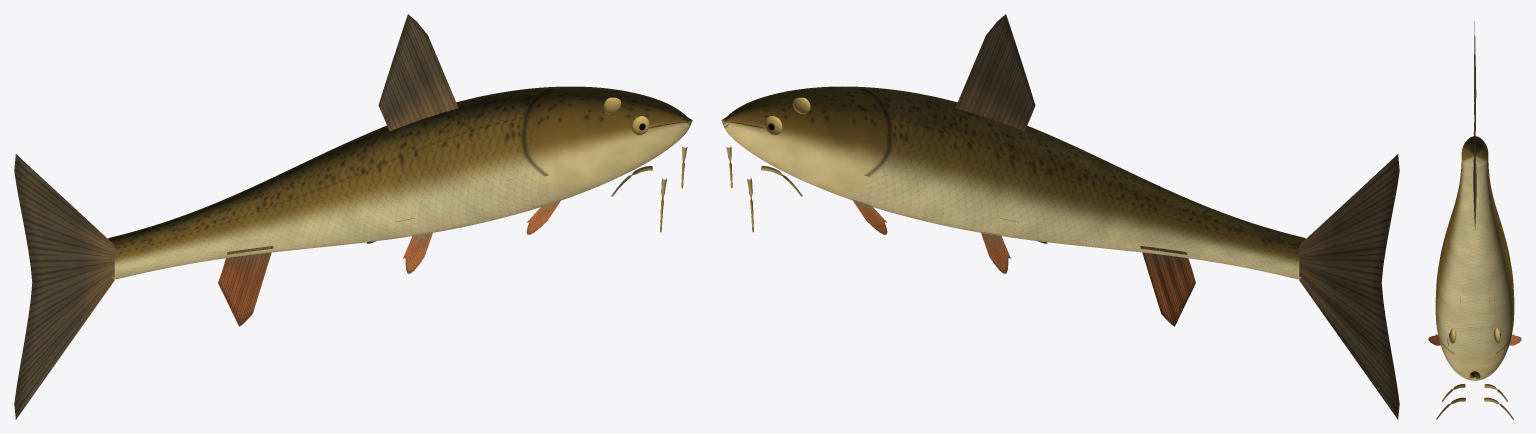
The model's file is fish_barbel.gltf.
3 renders of one model, left to right at view 1: azimuth 30°, elevation 25°; view 2: azimuth 150°, elevation 25°; view 3: azimuth 270°, elevation 25°, orthographic. The views are drawn at different scales.
Visible parts, largest first — view 1: fish_barbel; view 2: fish_barbel; view 3: fish_barbel.
Part boxes in pixels (left/top/right/bottom): fish_barbel: left=14, top=14, right=692, bottom=419; fish_barbel: left=721, top=14, right=1399, bottom=419; fish_barbel: left=1428, top=21, right=1521, bottom=419.
Size of the model in its own units: 0.493 by 0.2155 by 0.0744.
7 materials, 4 textured.
